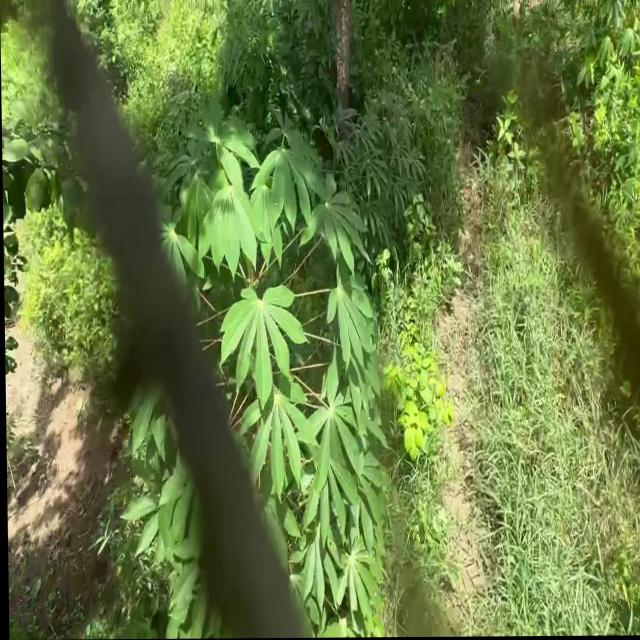Maleza: (433, 431, 632, 614), (481, 175, 635, 306), (105, 1, 279, 107), (389, 316, 497, 479), (497, 65, 640, 173), (536, 312, 640, 459), (14, 207, 102, 372)
